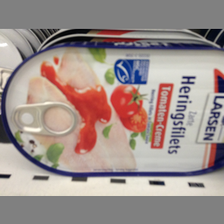fish: (2, 43, 224, 177)
